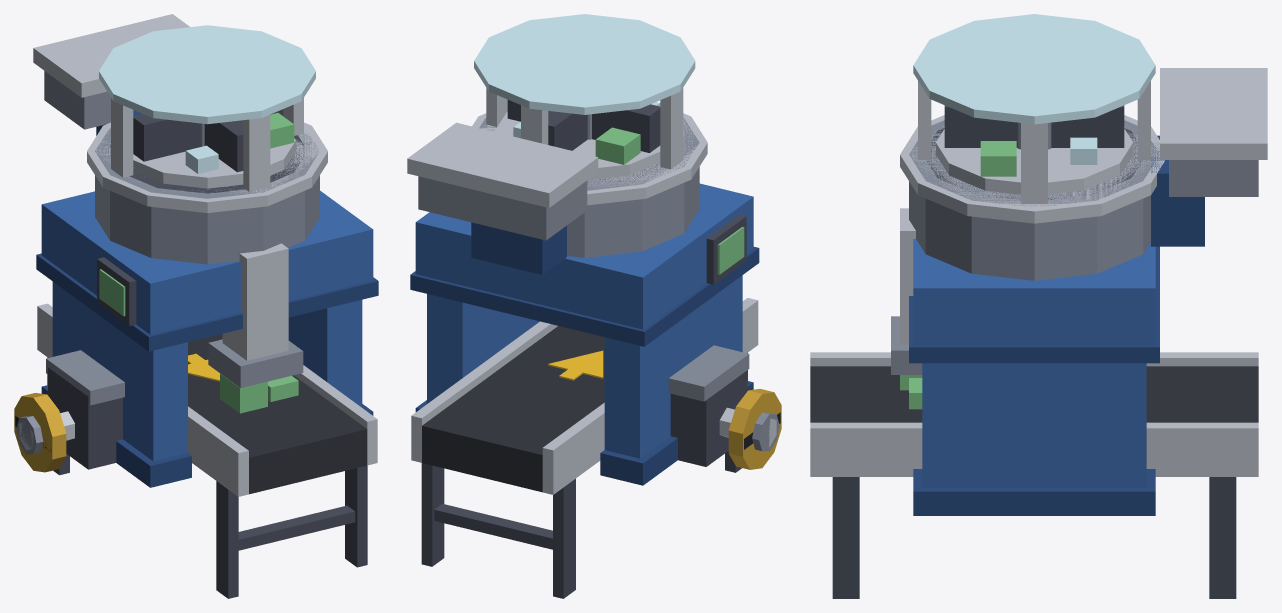
File: crusher-left.glb
3 views of the same model, side by side, from view 1: azimuth 30°, elevation 25°; view 2: azimuth 150°, elevation 25°; view 3: azimuth 270°, elevation 25° (orthographic). The views are drawn at different scales.
Parts seen in each view (by area): view 1: crusher-left, spin-up, spin-x; view 2: crusher-left, spin-up, spin-x; view 3: crusher-left, spin-up.
Boxes of the visible parts, bbox=[...] form: crusher-left: bbox=[19, 14, 378, 598]; spin-up: bbox=[133, 109, 295, 188]; spin-x: bbox=[14, 393, 66, 472]; crusher-left: bbox=[407, 14, 776, 598]; spin-up: bbox=[494, 100, 660, 180]; spin-x: bbox=[728, 389, 781, 469]; crusher-left: bbox=[810, 14, 1267, 598]; spin-up: bbox=[936, 105, 1133, 194].
Bounding box in the file's own units: 0.85 × 1.22 × 1.02.
Materials: 3 (3 with a texture image).
